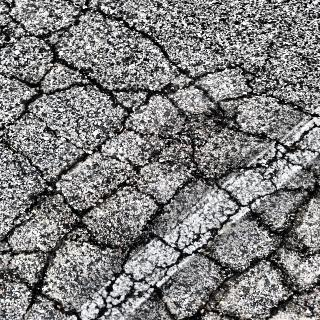alligator-crack: (1, 1, 316, 320)
